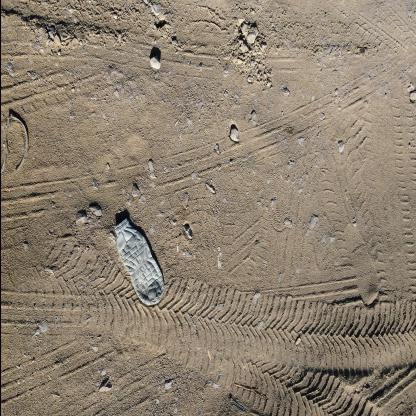plastik: (112, 218, 164, 306)
